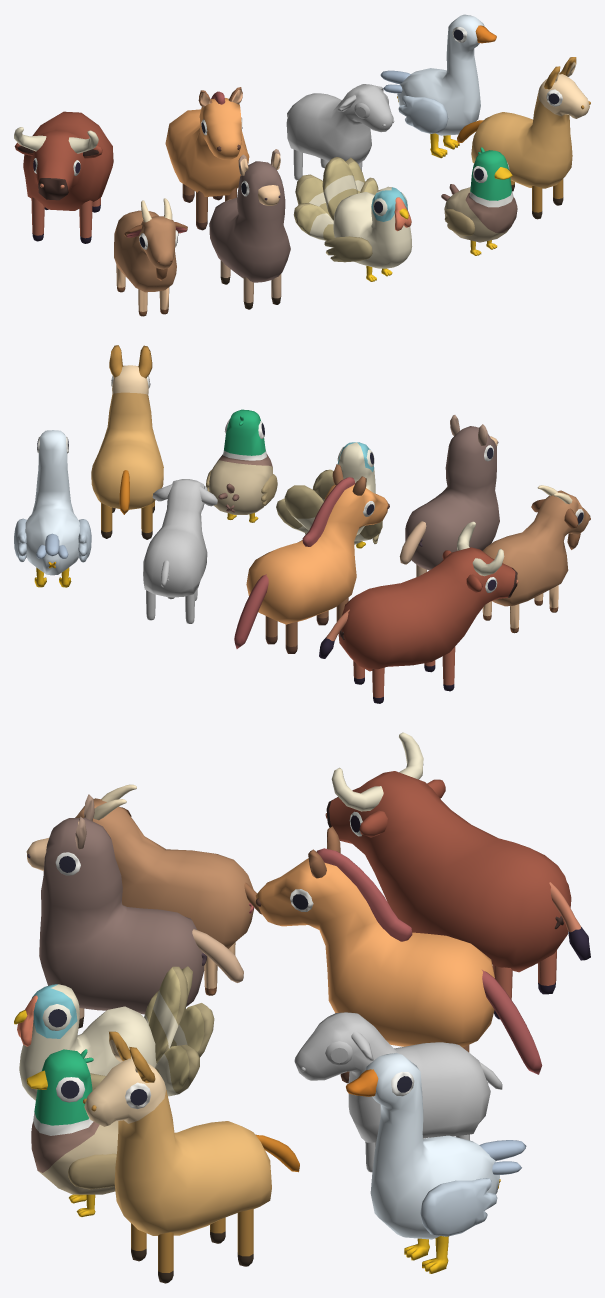
The model's file is animals.fbx.
3 renders of one model, top to bottom at view 1: azimuth 30°, elevation 25°; view 2: azimuth 150°, elevation 25°; view 3: azimuth 270°, elevation 25°, orthographic. The views are drawn at different scales.
Parts seen in each view (by area): view 1: huitugou_5170_03, huitugou_5170_01, huitugou_5170_05, huitugou_5170_09, huitugou_5170_08, huitugou_5170_07, huitugou_5170_04, huitugou_5170_06, huitugou_5170_02; view 2: huitugou_5170_05, huitugou_5170_07, huitugou_5170_01, huitugou_5170_09, huitugou_5170_06, huitugou_5170_08, huitugou_5170_04, huitugou_5170_02, huitugou_5170_03; view 3: huitugou_5170_05, huitugou_5170_07, huitugou_5170_01, huitugou_5170_09, huitugou_5170_08, huitugou_5170_03, huitugou_5170_04, huitugou_5170_06, huitugou_5170_02.
Part boxes in pixels (x1=…): huitugou_5170_03: x1=293, y1=157, x2=412, y2=281; huitugou_5170_01: x1=457, y1=57, x2=590, y2=219; huitugou_5170_05: x1=14, y1=111, x2=113, y2=243; huitugou_5170_09: x1=209, y1=149, x2=290, y2=309; huitugou_5170_08: x1=380, y1=14, x2=496, y2=158; huitugou_5170_07: x1=165, y1=87, x2=249, y2=230; huitugou_5170_04: x1=286, y1=84, x2=394, y2=180; huitugou_5170_06: x1=114, y1=198, x2=187, y2=316; huitugou_5170_02: x1=441, y1=147, x2=517, y2=255; huitugou_5170_05: x1=319, y1=521, x2=518, y2=703; huitugou_5170_07: x1=234, y1=464, x2=389, y2=653; huitugou_5170_01: x1=91, y1=345, x2=163, y2=539; huitugou_5170_09: x1=399, y1=415, x2=499, y2=577; huitugou_5170_06: x1=482, y1=485, x2=590, y2=633; huitugou_5170_08: x1=14, y1=430, x2=91, y2=587; huitugou_5170_04: x1=143, y1=479, x2=217, y2=623; huitugou_5170_02: x1=206, y1=409, x2=277, y2=522; huitugou_5170_03: x1=276, y1=442, x2=382, y2=548; huitugou_5170_05: x1=325, y1=732, x2=590, y2=1019; huitugou_5170_07: x1=255, y1=826, x2=542, y2=1083; huitugou_5170_01: x1=83, y1=1031, x2=299, y2=1283; huitugou_5170_09: x1=26, y1=794, x2=243, y2=1028; huitugou_5170_08: x1=346, y1=1052, x2=526, y2=1273; huitugou_5170_03: x1=14, y1=966, x2=214, y2=1100; huitugou_5170_04: x1=294, y1=1012, x2=502, y2=1172; huitugou_5170_06: x1=75, y1=784, x2=261, y2=995; huitugou_5170_02: x1=26, y1=1049, x2=118, y2=1216.
Size of the model in its own units: 500 by 157 by 342.
